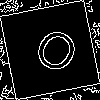O: (25, 25, 83, 84)
